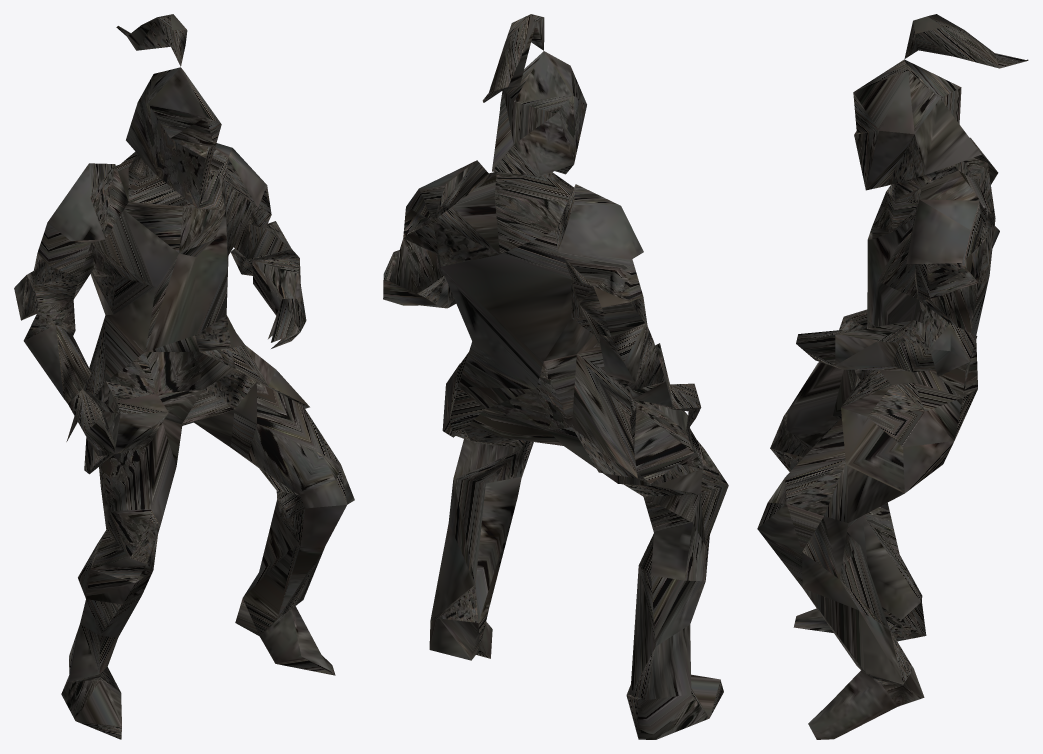
The model's file is ae_knight_rider_lod0.glb.
The picture shows the model from 3 angles, left to right: view 1: azimuth 30°, elevation 25°; view 2: azimuth 150°, elevation 25°; view 3: azimuth 270°, elevation 25°; orthographic projection. The views are drawn at different scales.
Parts seen in each view (by area): view 1: output_unwrapped; view 2: output_unwrapped; view 3: output_unwrapped.
Boxes of the visible parts, box(x1,y1,x2,y2) form: output_unwrapped: box(14, 14, 354, 739); output_unwrapped: box(383, 14, 728, 739); output_unwrapped: box(757, 14, 1028, 739).
Bounding box in the file's own units: 0.7999 × 1.9 × 0.6969.
Materials: 1 (1 with a texture image).
